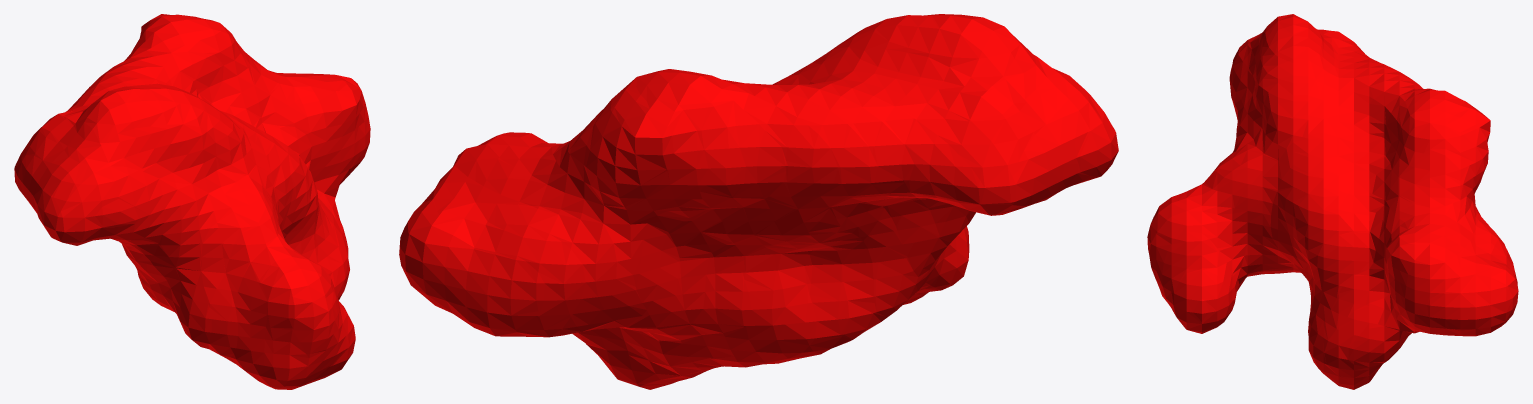
The model's file is hisQ_coarse.dae.
The picture shows the model from 3 angles, left to right: view 1: azimuth 30°, elevation 25°; view 2: azimuth 150°, elevation 25°; view 3: azimuth 270°, elevation 25°; orthographic projection. The views are drawn at different scales.
Parts seen in each view (by area): view 1: hisQ; view 2: hisQ; view 3: hisQ.
Part boxes in pixels (x1,y1,x2,y2): hisQ: (14,14,370,389); hisQ: (399,14,1118,389); hisQ: (1147,14,1518,389).
Bounding box in the file's own units: 71.12 × 49.88 × 60.8.
